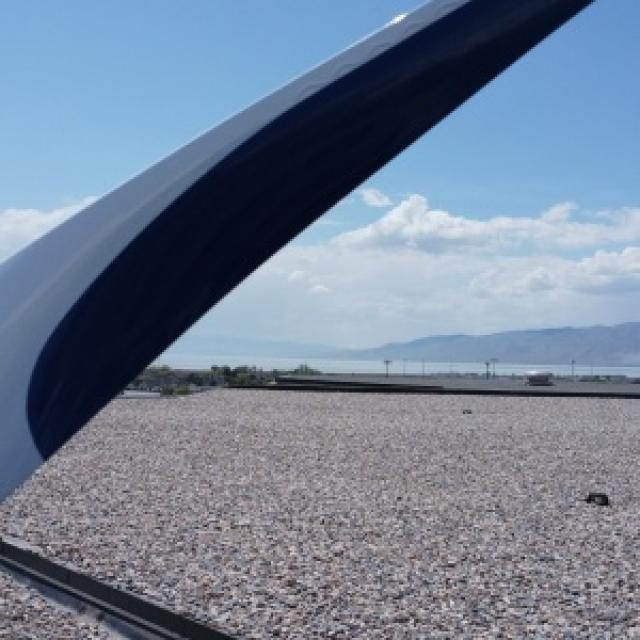healthy: (0, 0, 587, 493)
